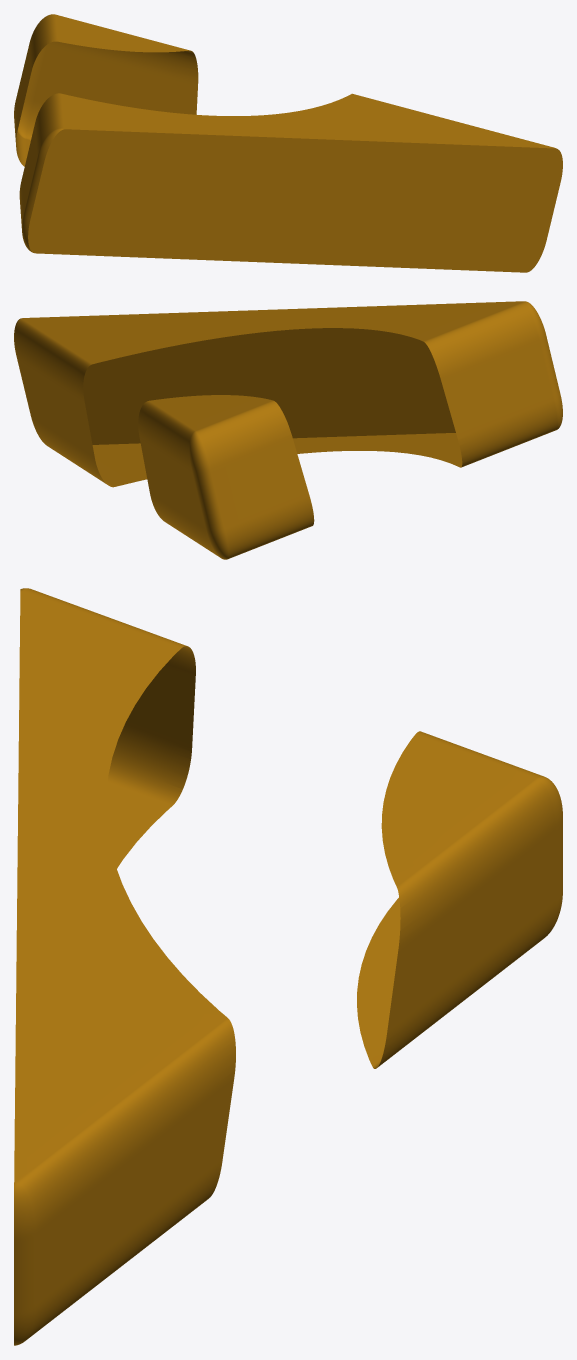
The model's file is Obstacle-tunnel1.glb.
3 renders of one model, top to bottom at view 1: azimuth 30°, elevation 25°; view 2: azimuth 150°, elevation 25°; view 3: azimuth 270°, elevation 25°, orthographic. The views are drawn at different scales.
Parts seen in each view (by area): view 1: Cube_5_Mat.16_0; view 2: Cube_5_Mat.16_0; view 3: Cube_5_Mat.16_0.
Part boxes in pixels (<box>): Cube_5_Mat.16_0: <box>14,14,562,272</box>; Cube_5_Mat.16_0: <box>14,301,562,559</box>; Cube_5_Mat.16_0: <box>14,588,562,1345</box>.
Bounding box in the file's own units: 0.9415 × 0.4287 × 0.5331.
